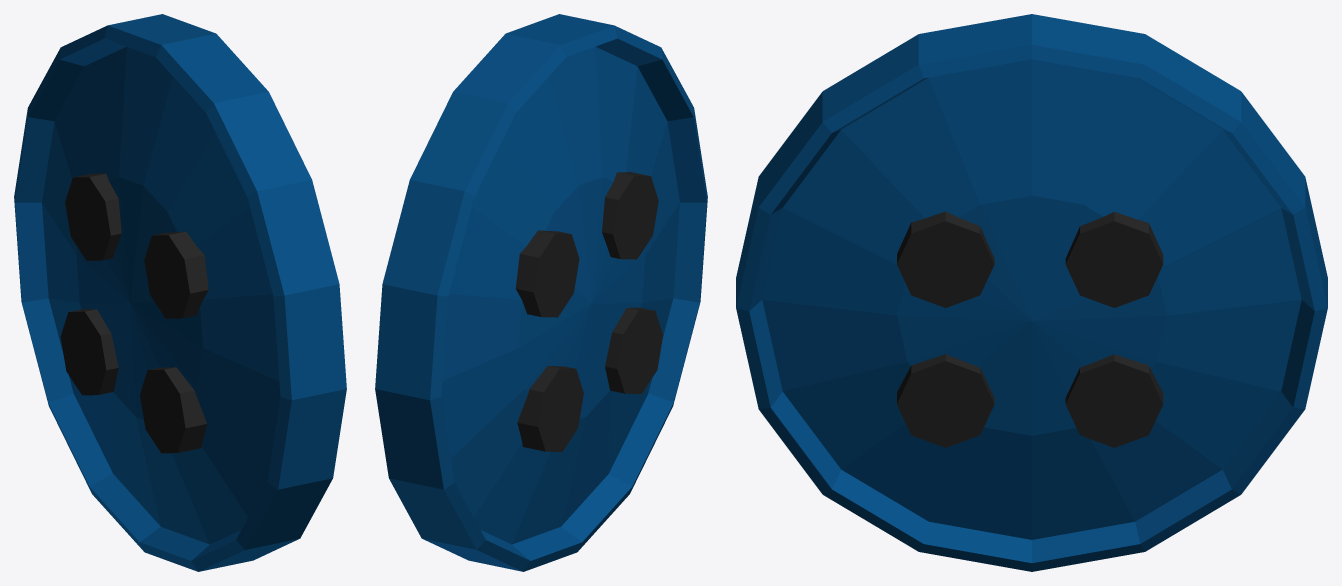
Rendered from button.fbx.
The picture shows the model from 3 angles, left to right: view 1: azimuth 30°, elevation 25°; view 2: azimuth 150°, elevation 25°; view 3: azimuth 270°, elevation 25°; orthographic projection. The views are drawn at different scales.
Visible parts, largest first — view 1: polySurface49; view 2: polySurface49; view 3: polySurface49.
Boxes of the visible parts, left/top/right/bottom form: polySurface49: left=14, top=14, right=346, bottom=571; polySurface49: left=375, top=14, right=707, bottom=571; polySurface49: left=736, top=14, right=1327, bottom=571.
Bounding box in the file's own units: 0.1749 × 0.7117 × 0.7093.
